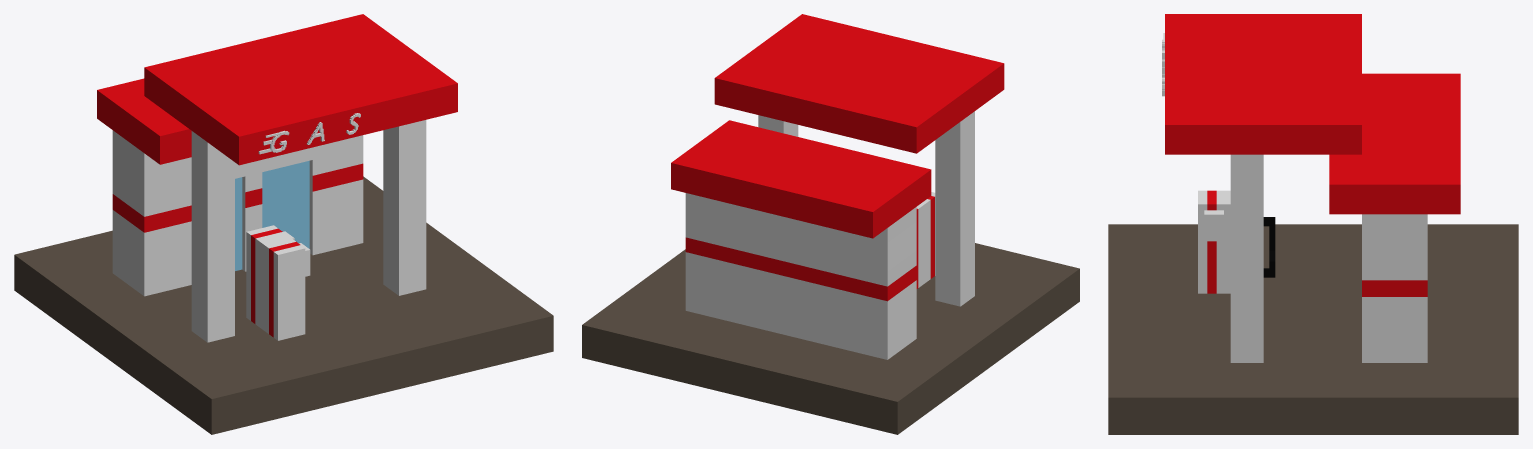
The model's file is gas-1.glb.
3 renders of one model, left to right at view 1: azimuth 30°, elevation 25°; view 2: azimuth 150°, elevation 25°; view 3: azimuth 270°, elevation 25°, orthographic. The views are drawn at different scales.
Parts seen in each view (by area): view 1: Gas::New; view 2: Gas::New; view 3: Gas::New.
Part boxes in pixels (x1=…): Gas::New: x1=14, y1=14, x2=553, y2=434; Gas::New: x1=582, y1=14, x2=1079, y2=434; Gas::New: x1=1108, y1=14, x2=1518, y2=434.
Bounding box in the file's own units: 1 × 0.7399 × 1.
